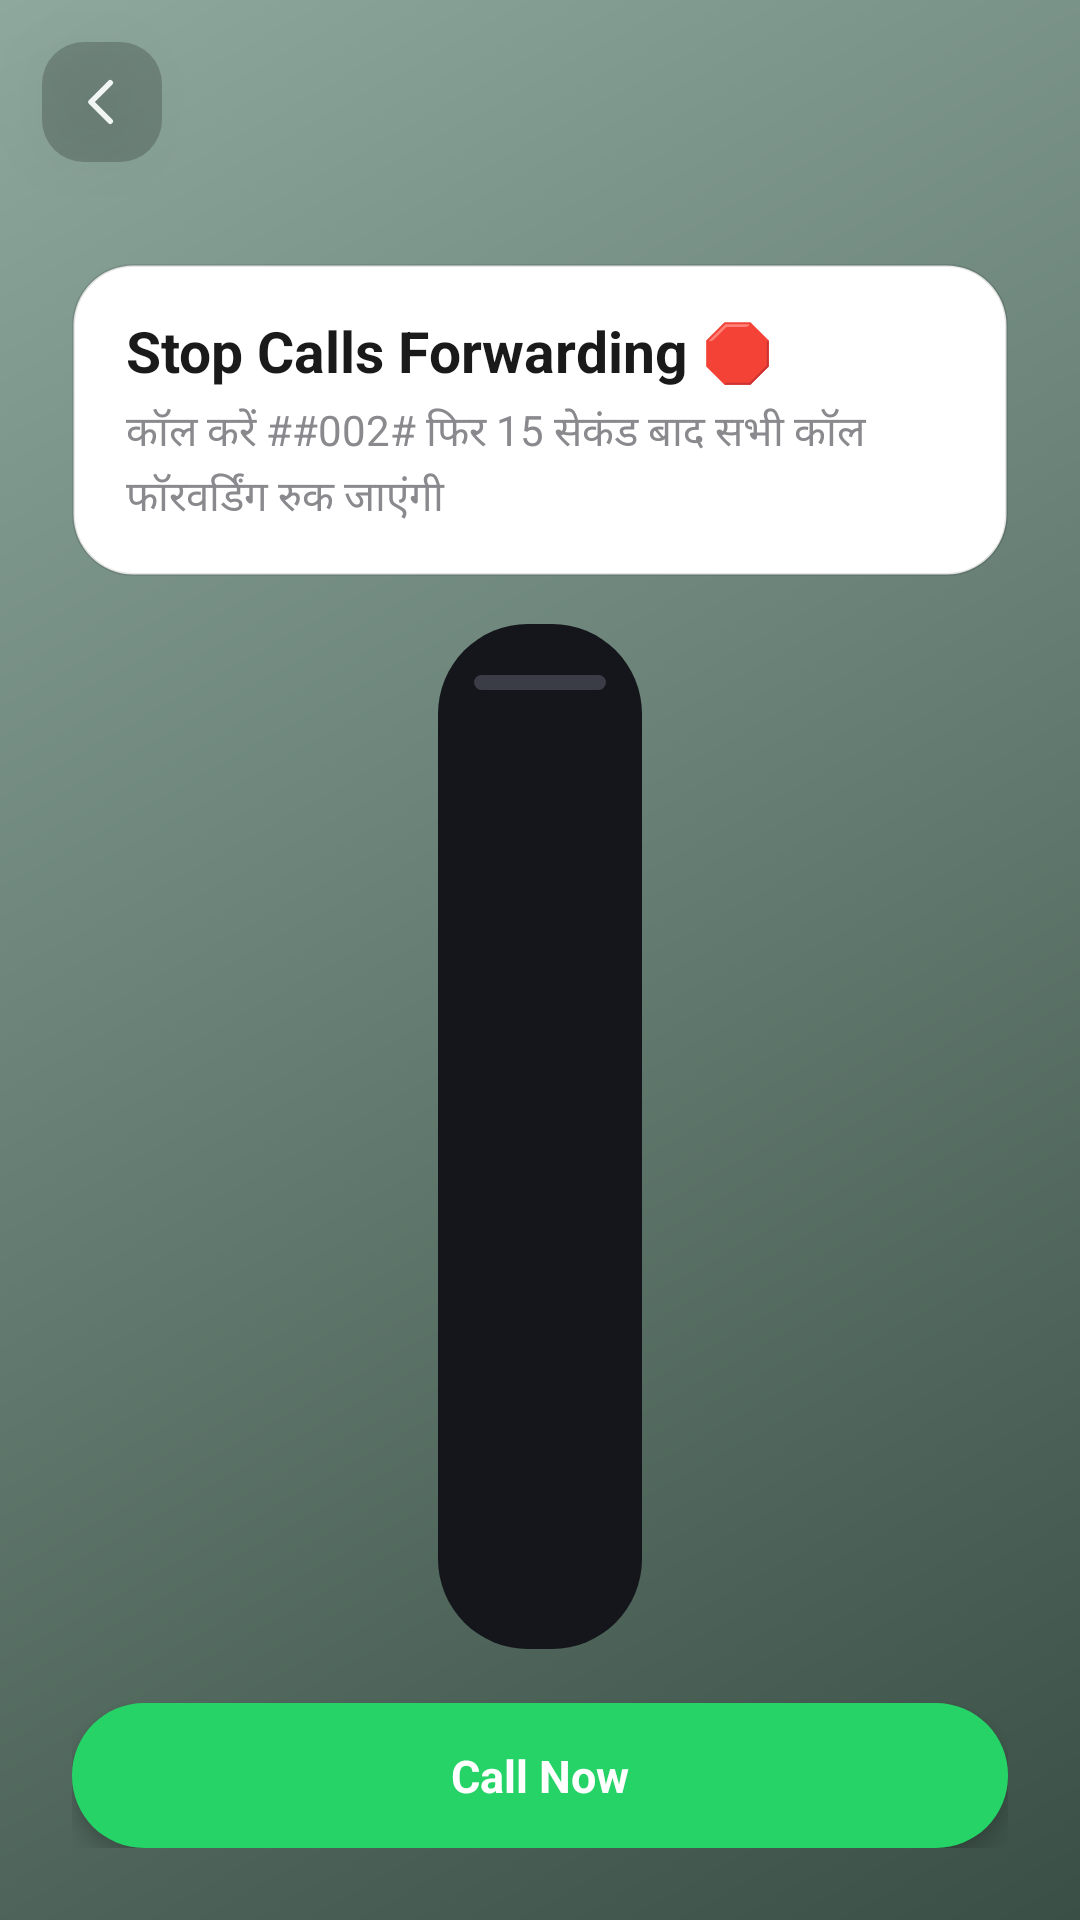

Icons on this 1080*1920 Android screen, each with its box as (x1, y1, x2, y2):
back arrow: (42, 42, 162, 162)
